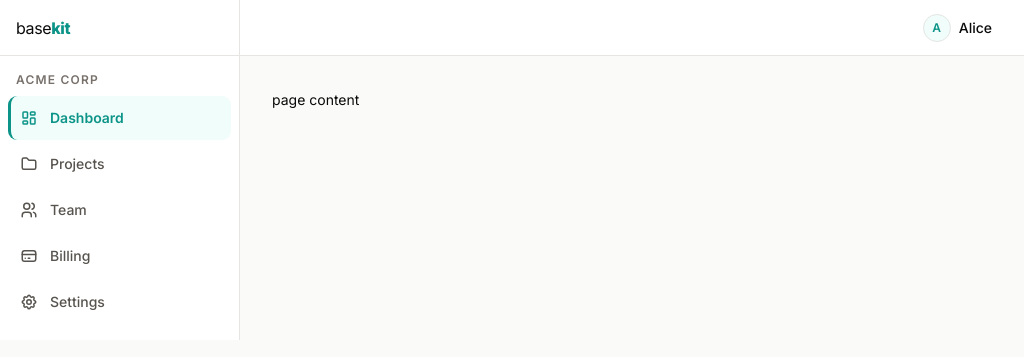
Test: AppShell › opens the user menu on avatar click
What coordinates should you click on to do the following:
click the button with aria-label "User menu"
I would click on:
 (957, 28)
Its box is [915, 6, 1000, 50].
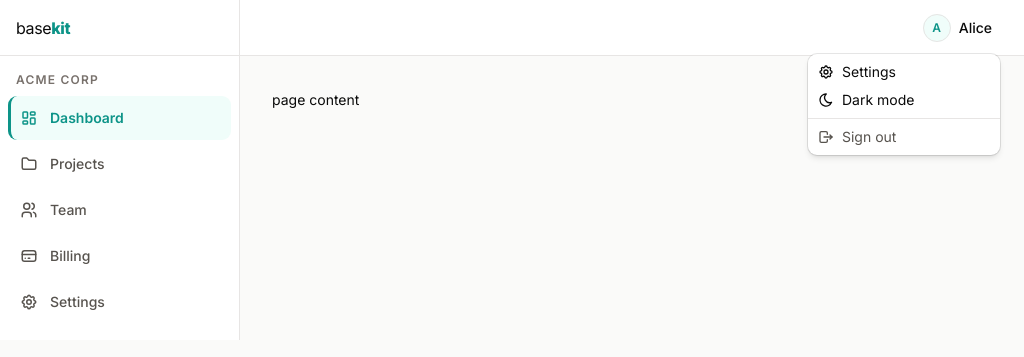
Result: the menu item "Settings" is shown at [818, 63, 896, 80]
